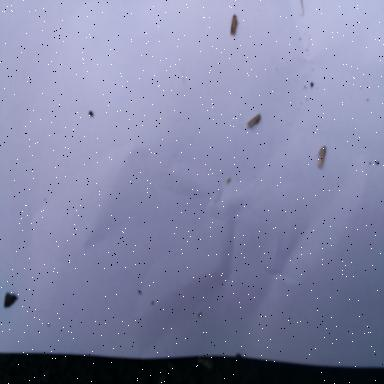pbw: (246, 112, 264, 130), (314, 143, 328, 166), (230, 8, 238, 38)
